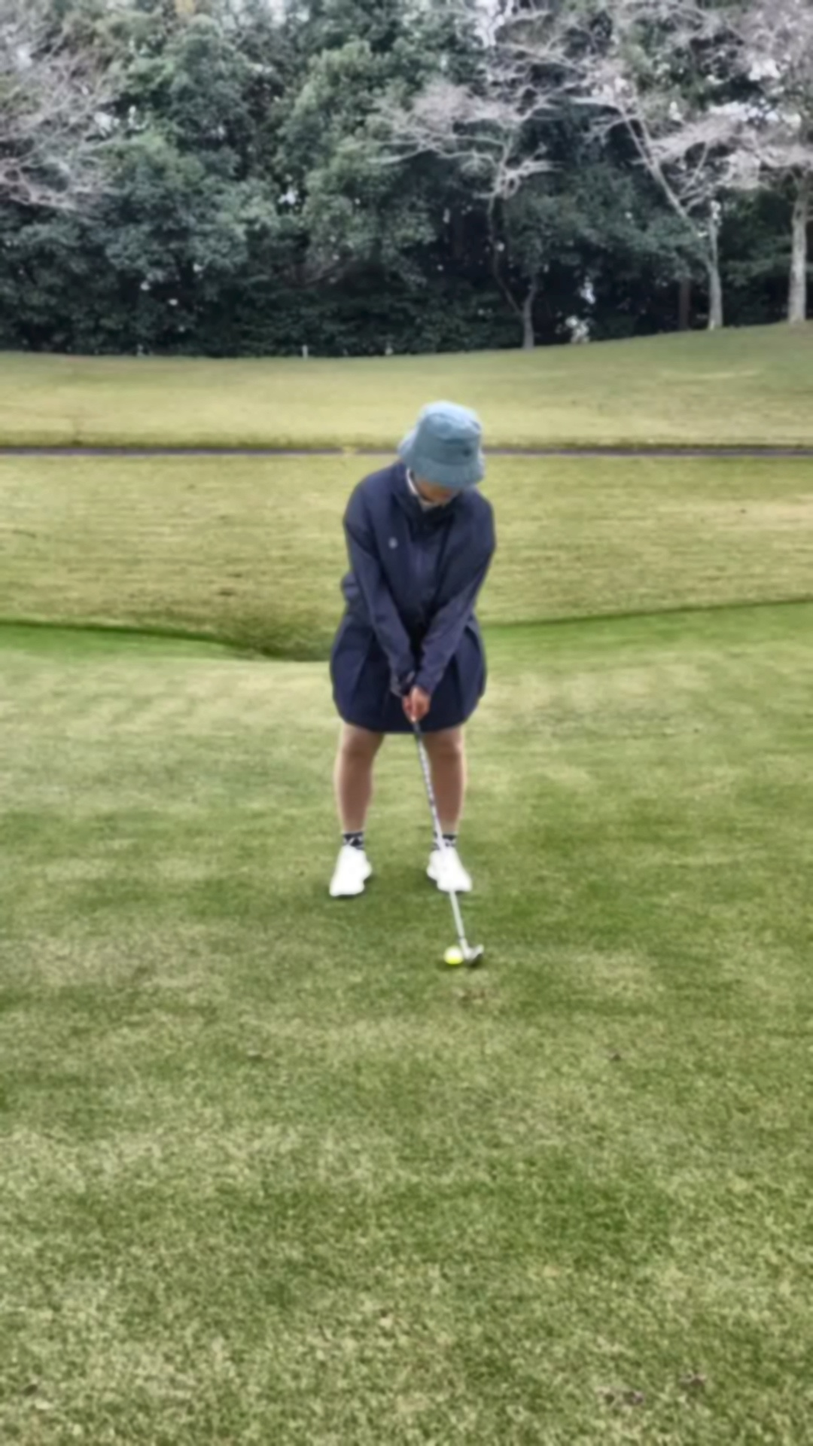clubhead: (397, 908, 541, 1016)
